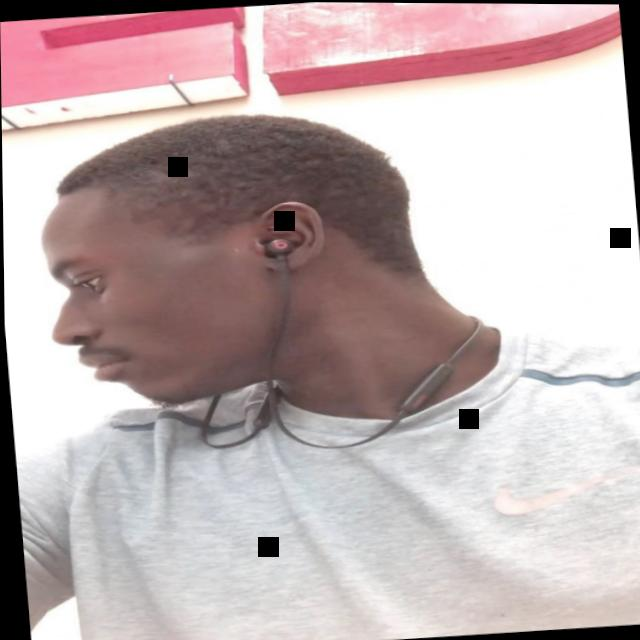NO-Mask: (34, 170, 315, 417)
